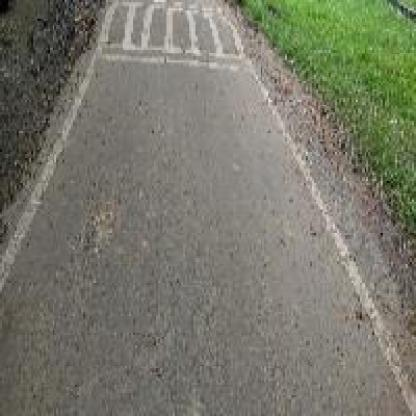Speed Bump: (99, 0, 255, 67)
